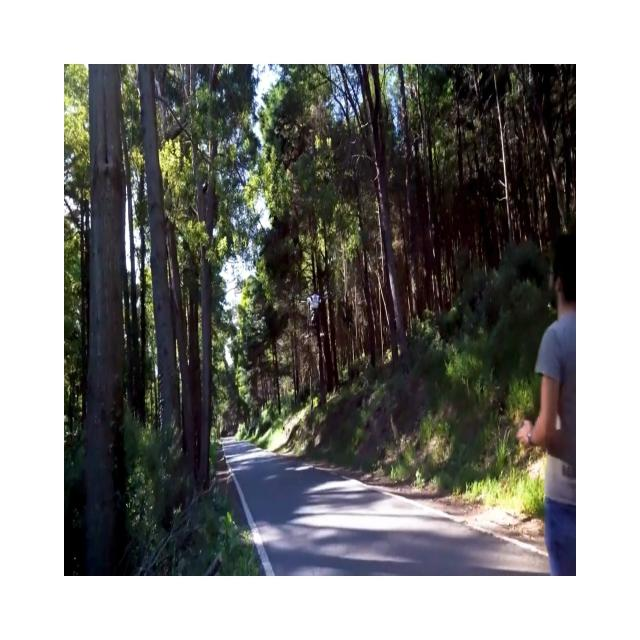drone: (296, 281, 332, 335)
